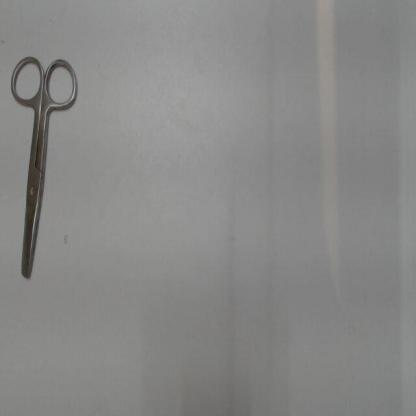Dressing Scissors: (5, 46, 85, 291)
